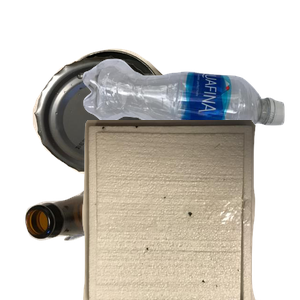glass: (23, 179, 183, 300)
metal: (30, 46, 205, 215)
plastic: (80, 56, 300, 187)
trash: (80, 120, 300, 300)
